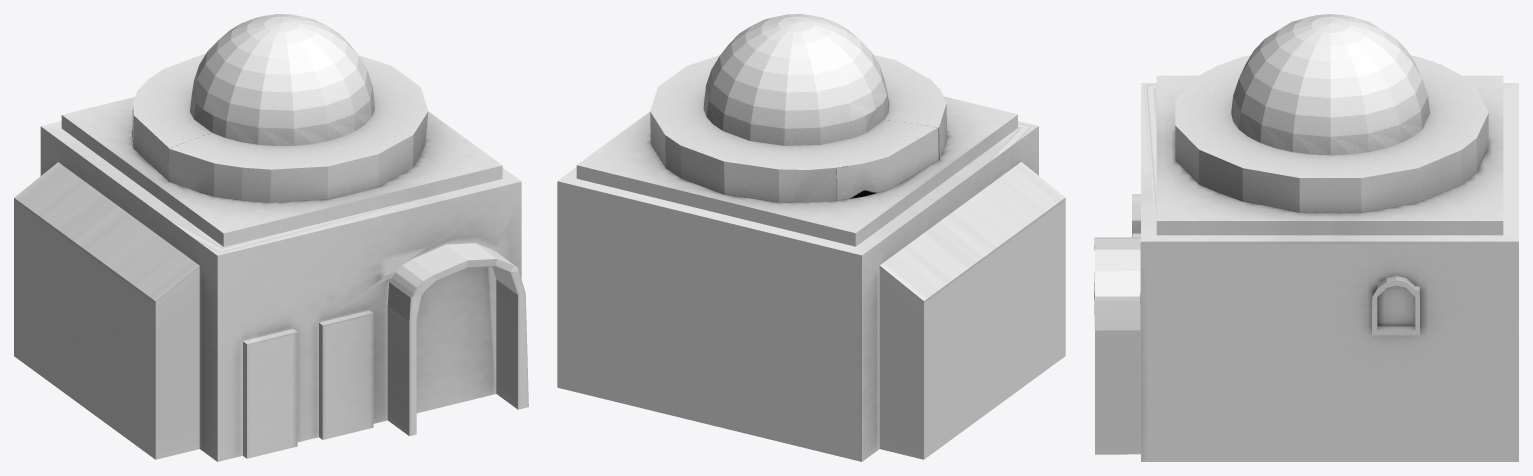
Rendered from house.obj.
The picture shows the model from 3 angles, left to right: view 1: azimuth 30°, elevation 25°; view 2: azimuth 150°, elevation 25°; view 3: azimuth 270°, elevation 25°; orthographic projection. The views are drawn at different scales.
Parts seen in each view (by area): view 1: house_Cube.003; view 2: house_Cube.003; view 3: house_Cube.003.
Part boxes in pixels (x1=…): house_Cube.003: x1=14, y1=14, x2=528, y2=461; house_Cube.003: x1=557, y1=14, x2=1065, y2=461; house_Cube.003: x1=1094, y1=14, x2=1518, y2=461.
Bounding box in the file's own units: 4.18 × 3.78 × 4.04.
